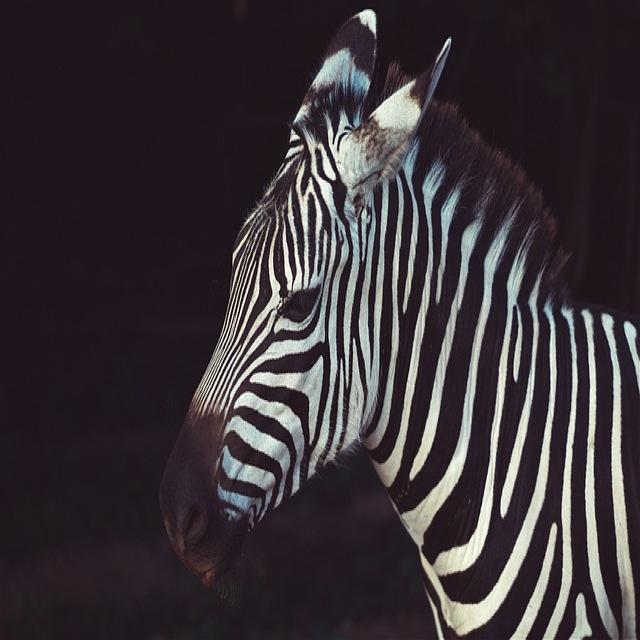Herbivorous: (157, 13, 640, 640)
